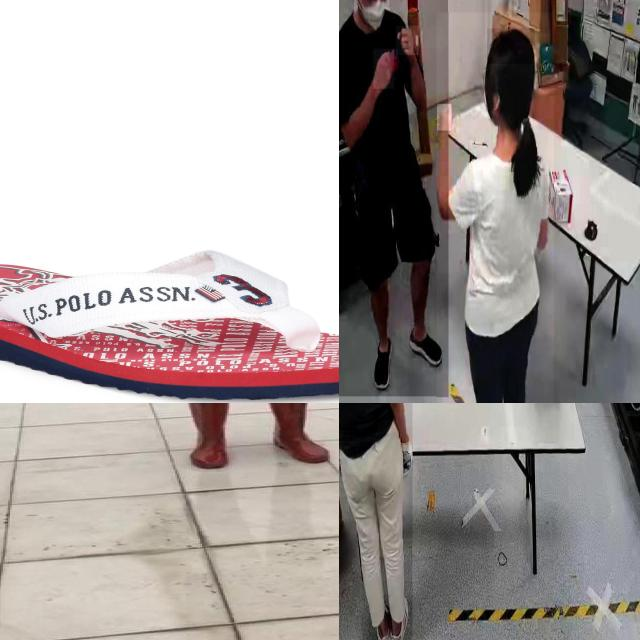Sandals: (0, 248, 339, 403)
boots: (264, 403, 330, 465), (185, 403, 230, 469)
face_mask: (354, 0, 389, 36)
hand_glove: (402, 445, 418, 476)
hand_noglove: (374, 49, 394, 90), (396, 26, 419, 56), (437, 104, 452, 131)
head_nohelmet: (487, 28, 535, 65)
person: (436, 12, 554, 403), (339, 0, 448, 397), (339, 403, 413, 640)
shoes: (404, 318, 444, 372), (369, 334, 397, 396), (390, 592, 410, 640), (371, 600, 391, 640)
